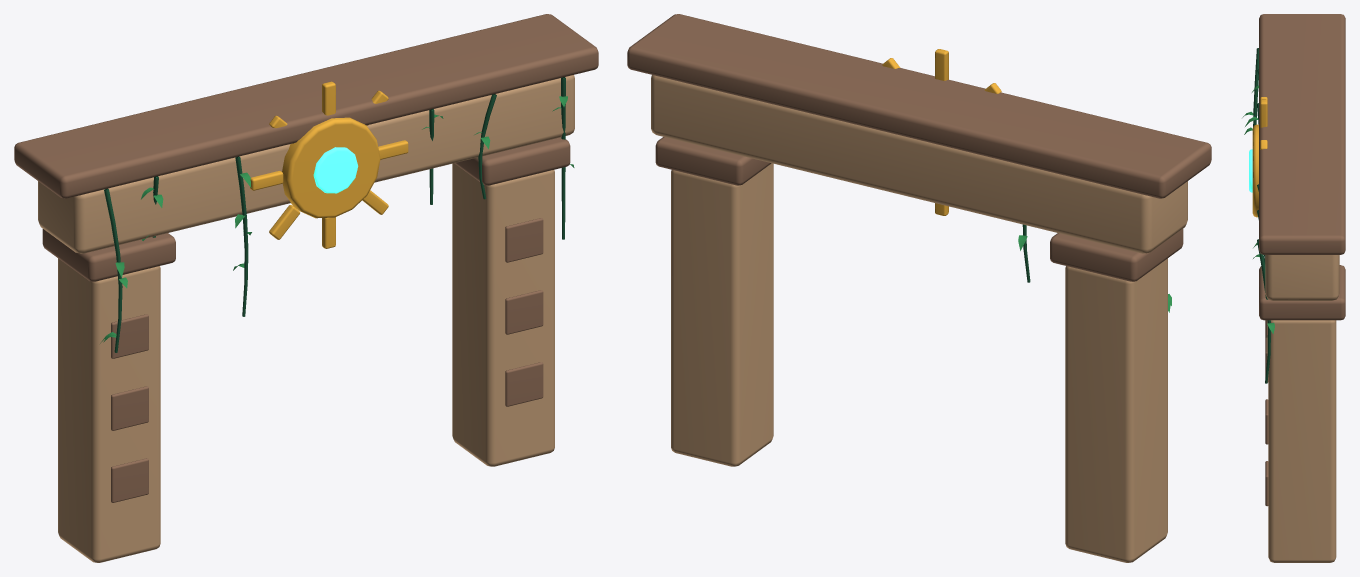
File: jungle_trail_gate.glb
3 renders of one model, left to right at view 1: azimuth 30°, elevation 25°; view 2: azimuth 150°, elevation 25°; view 3: azimuth 270°, elevation 25°, orthographic. The views are drawn at different scales.
Parts seen in each view (by area): view 1: TrailGate; view 2: TrailGate; view 3: TrailGate.
Boxes of the visible parts, x1,y1,x2,y2 form: TrailGate: [14, 14, 598, 562]; TrailGate: [627, 14, 1211, 562]; TrailGate: [1242, 14, 1345, 562].
Size of the model in its own units: 8.6 by 6.55 by 1.7.
